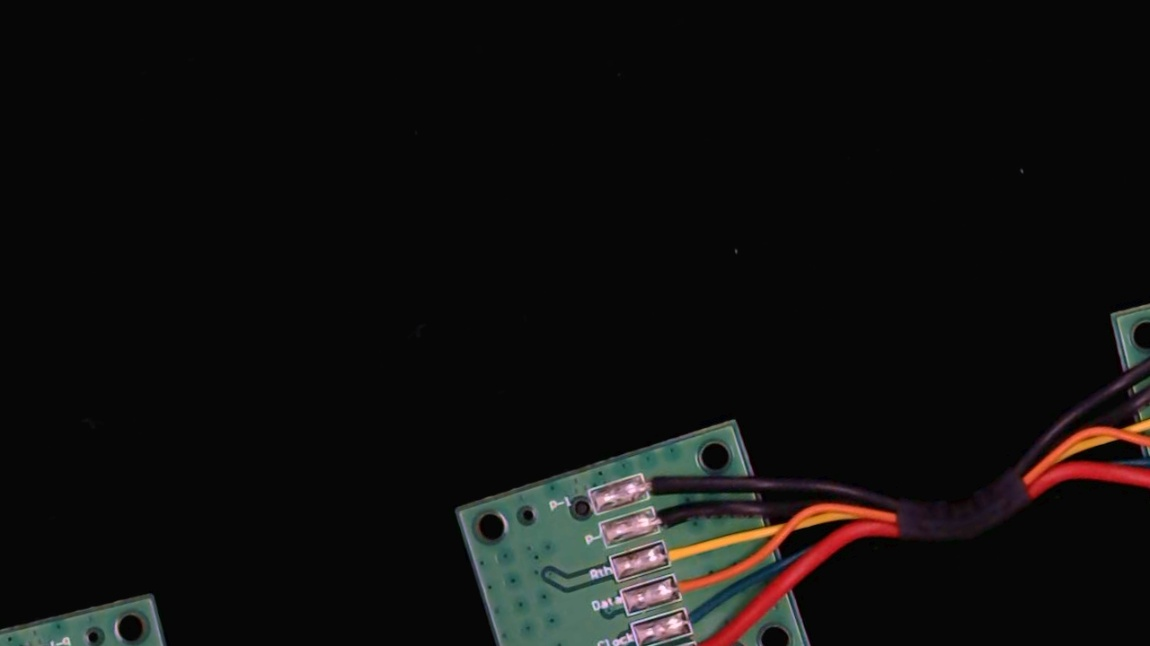Black: (637, 495, 702, 537)
Black1: (627, 461, 693, 503)
Green: (669, 597, 733, 638)
Orange: (660, 564, 718, 604)
Red: (679, 632, 744, 646)
Yellow: (648, 529, 716, 572)
